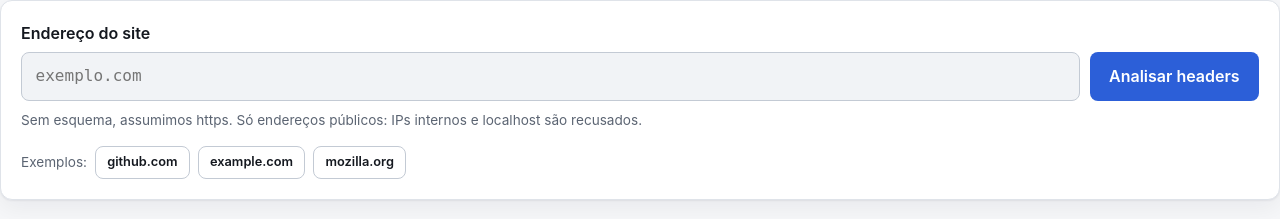
Test: ScanForm › runs an example in one click
Click the button "github.com" at coordinates (142, 162), box [95,146,190,179]
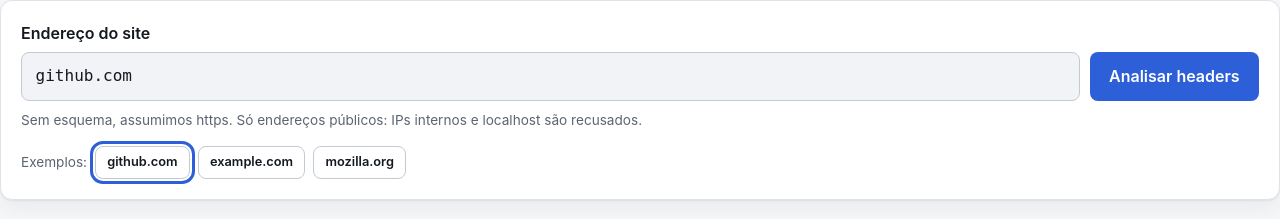
Expected: the field labelled "Endereço do site" holds "github.com", [21,52,1080,101]
